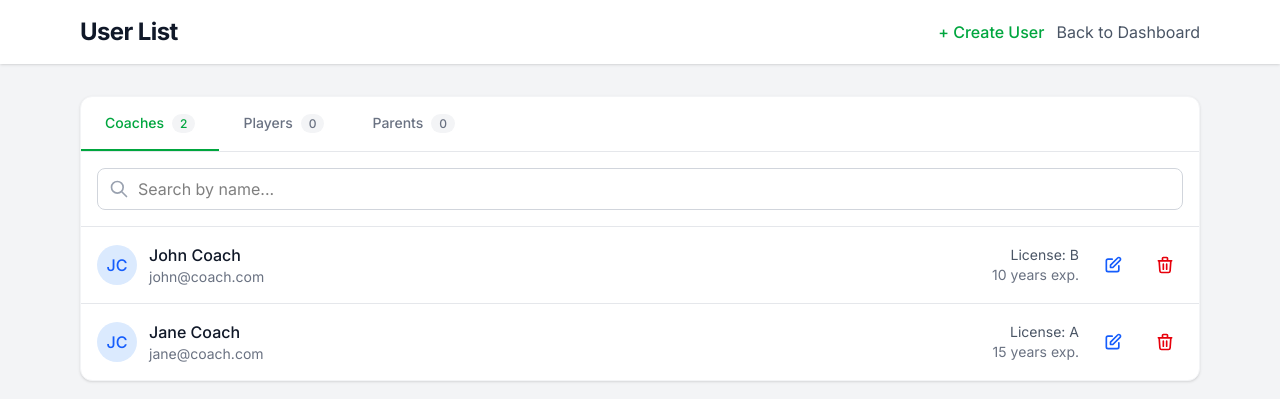
Test case: UserListPage › Search functionality › should filter coaches by name
Expected: the text "John Coach" is shown, left=149, top=245, right=241, bottom=265
Type "Jane" into the field with placeholder "Search by name..." at (640, 189), box left=97, top=168, right=1183, bottom=210
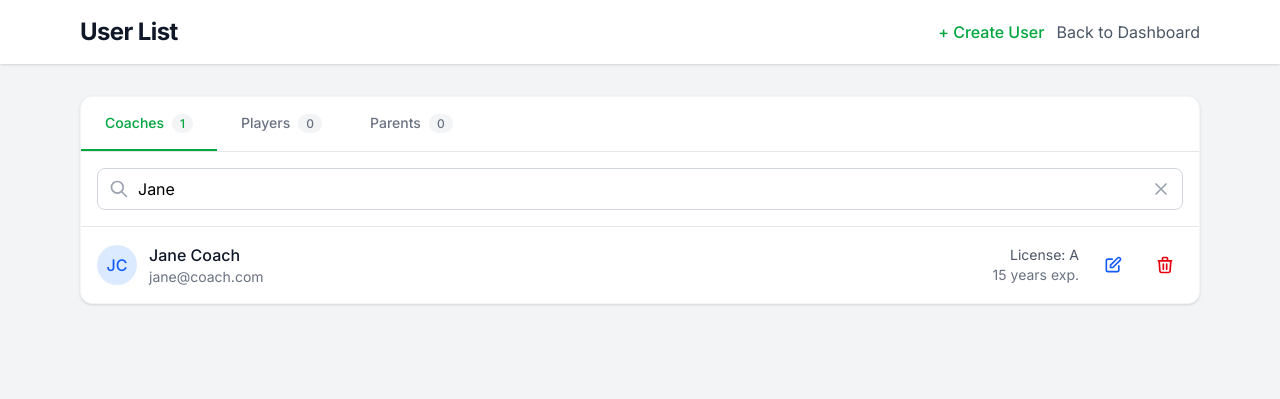
Expected: the text "Jane Coach" is shown, left=149, top=245, right=240, bottom=265
Now the text "John Coach" is gone
